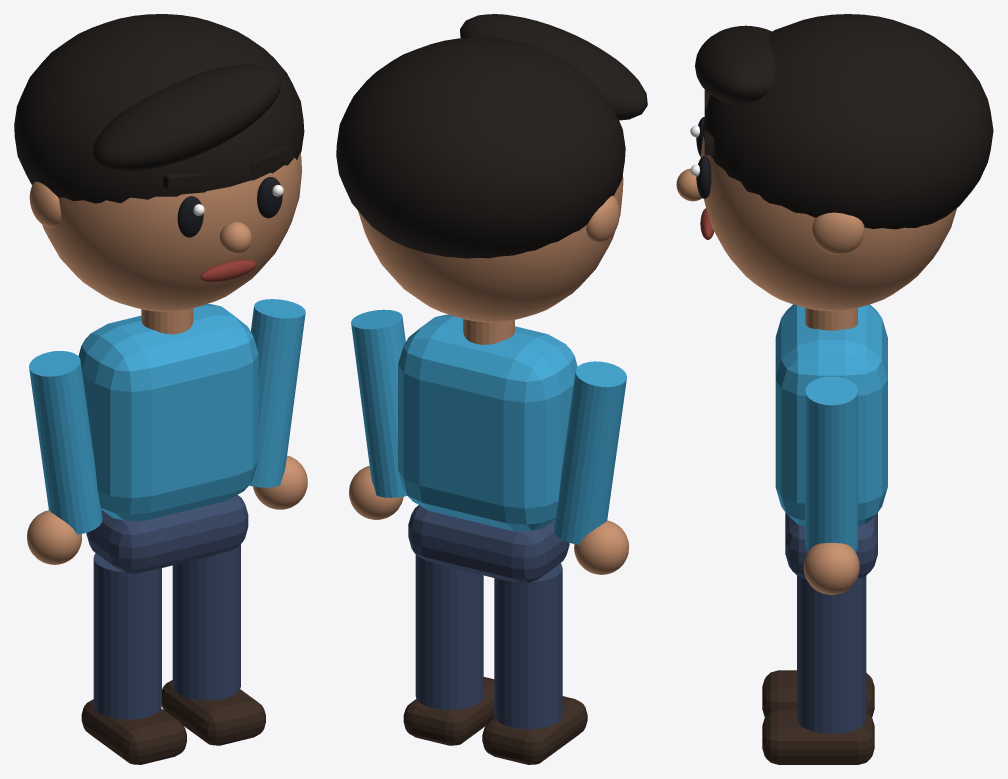
File: persona_camisa_azul.glb
3 renders of one model, left to right at view 1: azimuth 30°, elevation 25°; view 2: azimuth 150°, elevation 25°; view 3: azimuth 270°, elevation 25°, orthographic.
Visible parts, largest first — view 1: Cube.003, Sphere.011, Sphere.002, Sphere.012, Cylinder, Cylinder.001, Cylinder.002, Cube.002, Cylinder.003, Cube, Cube.001, Sphere (+9 smaller); view 2: Sphere.011, Cube.003, Sphere.002, Cylinder, Cylinder.001, Cylinder.002, Cube.002, Cylinder.003, Sphere.012, Cube, Cube.001, Sphere (+3 smaller); view 3: Sphere.011, Sphere.002, Cube.003, Cylinder.001, Cylinder.003, Sphere.012, Cube.001, Sphere.001, Cube.002, Sphere.006, Cube, Cylinder.004 (+1 smaller).
Boxes of the visible parts, box(x1,y1,x2,y2) form: Cube.003: box(78, 304, 258, 521); Sphere.011: box(14, 14, 304, 203); Sphere.002: box(42, 153, 301, 311); Sphere.012: box(93, 64, 281, 171); Cylinder: box(93, 553, 161, 719); Cylinder.001: box(172, 544, 240, 700); Cylinder.002: box(29, 351, 102, 534); Cube.002: box(86, 495, 248, 573); Cylinder.003: box(249, 299, 305, 487); Cube: box(81, 699, 186, 764); Cube.001: box(162, 680, 265, 745); Sphere: box(27, 510, 81, 564); Sphere.011: box(336, 37, 625, 258); Cube.003: box(398, 314, 577, 531); Sphere.002: box(358, 175, 623, 322); Cylinder: box(494, 563, 562, 729); Cylinder.001: box(415, 554, 483, 710); Cylinder.002: box(553, 361, 626, 544); Cube.002: box(408, 505, 569, 583); Cylinder.003: box(351, 309, 407, 497); Sphere.012: box(460, 14, 647, 120); Cube: box(482, 696, 587, 764); Cube.001: box(403, 677, 494, 745); Sphere: box(574, 520, 628, 574); Sphere.011: box(703, 14, 993, 229); Sphere.002: box(701, 136, 956, 311); Cube.003: box(775, 304, 887, 526); Cylinder.001: box(797, 575, 866, 733); Cylinder.003: box(805, 376, 857, 551); Sphere.012: box(695, 25, 775, 104); Cube.001: box(762, 709, 874, 764); Sphere.001: box(803, 543, 859, 594); Cube.002: box(785, 513, 877, 578); Sphere.006: box(812, 212, 864, 254); Cube: box(762, 670, 874, 716); Cylinder.004: box(805, 308, 857, 330).
Size of the model in its own units: 0.97 by 2.35 by 0.96.
